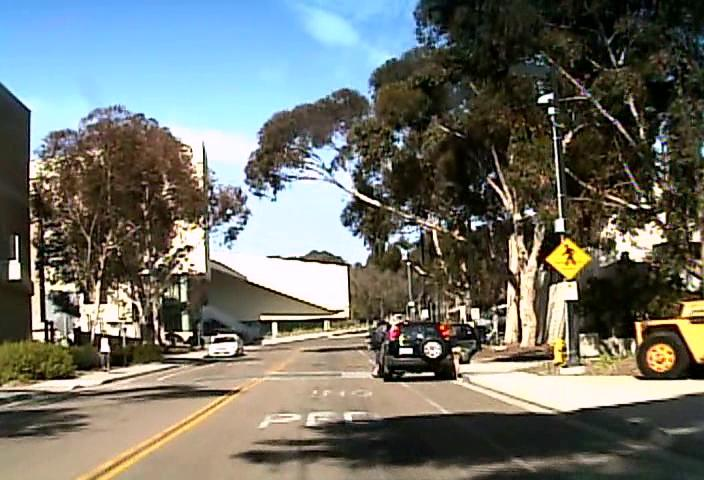pedestrianCrossing: (545, 236, 591, 279)
